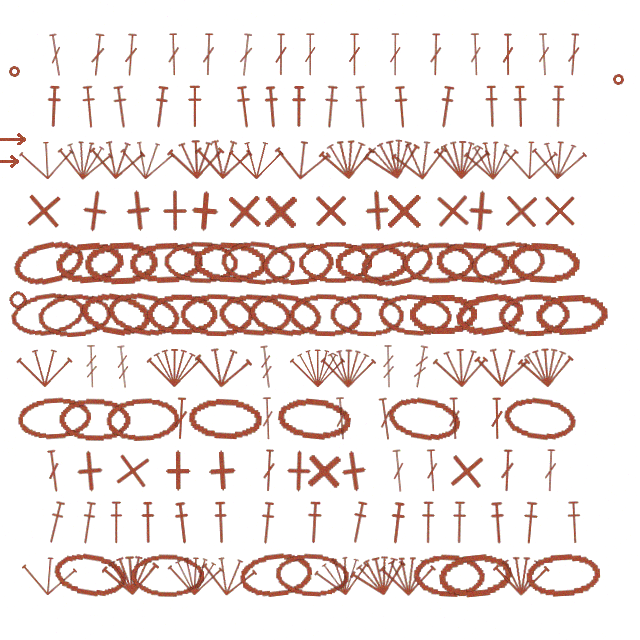chain: (356, 234, 438, 292), (9, 234, 89, 292), (104, 287, 184, 342), (77, 287, 155, 342), (384, 392, 463, 446), (50, 548, 129, 602), (8, 288, 87, 341), (246, 289, 325, 341), (501, 393, 579, 445), (469, 237, 548, 288), (452, 288, 528, 341), (237, 549, 314, 600), (275, 394, 352, 444), (436, 550, 513, 600), (219, 238, 296, 287), (36, 291, 114, 339), (376, 291, 453, 339), (274, 551, 351, 598), (524, 551, 601, 598), (260, 239, 335, 287), (217, 291, 292, 339), (434, 239, 510, 286), (16, 395, 92, 442), (53, 239, 127, 287), (105, 396, 181, 442), (128, 240, 203, 286), (187, 396, 262, 442), (179, 292, 255, 337), (506, 240, 580, 286), (534, 292, 608, 338), (83, 240, 158, 285), (163, 240, 238, 285), (192, 240, 267, 285), (329, 292, 404, 337), (412, 552, 485, 598), (288, 292, 362, 337), (497, 292, 570, 337), (334, 241, 408, 285), (402, 241, 476, 285), (58, 397, 132, 441), (130, 553, 204, 597), (298, 241, 372, 284), (146, 293, 219, 336), (408, 293, 479, 336)
double: (46, 33, 66, 77), (88, 33, 107, 77), (376, 397, 395, 441), (44, 449, 63, 493), (122, 33, 140, 77), (237, 33, 255, 77), (390, 449, 407, 493), (565, 33, 582, 76), (333, 397, 350, 440), (536, 33, 552, 76), (173, 397, 189, 440), (261, 449, 277, 492), (424, 449, 440, 492), (499, 449, 515, 492), (166, 33, 181, 76), (201, 33, 216, 76), (347, 33, 362, 76), (428, 33, 443, 76), (468, 33, 483, 76), (260, 397, 275, 440), (447, 397, 462, 440), (543, 449, 558, 492), (274, 33, 288, 76), (303, 33, 317, 76), (388, 33, 402, 76), (501, 33, 515, 76), (490, 397, 504, 440)
fan: (347, 548, 412, 602), (361, 132, 425, 185), (311, 549, 374, 600), (389, 134, 451, 184), (198, 550, 260, 600), (54, 135, 115, 183), (272, 135, 333, 183), (193, 343, 253, 391), (87, 135, 147, 182), (117, 135, 177, 182), (317, 135, 377, 182), (529, 135, 589, 182), (516, 343, 576, 390), (19, 551, 79, 598), (101, 551, 161, 598), (462, 136, 521, 182), (17, 136, 76, 181), (194, 136, 253, 181), (501, 136, 560, 181), (167, 136, 225, 181), (433, 136, 491, 181), (432, 344, 490, 389), (473, 344, 531, 389), (166, 552, 224, 597), (379, 553, 437, 597), (320, 345, 377, 389), (493, 553, 550, 597), (228, 137, 285, 180), (16, 345, 73, 388), (146, 345, 203, 388), (289, 345, 346, 388)
half_double: (43, 500, 68, 545), (347, 500, 370, 545), (110, 85, 132, 129), (233, 85, 255, 129), (435, 85, 457, 129), (77, 501, 99, 545), (150, 85, 171, 129), (79, 85, 99, 129), (321, 85, 341, 129), (172, 501, 192, 545), (257, 501, 277, 545), (387, 501, 407, 545), (520, 501, 540, 545), (262, 85, 281, 129), (352, 85, 371, 129), (392, 85, 411, 129), (488, 501, 507, 545), (305, 501, 324, 544), (45, 85, 63, 128), (511, 85, 529, 128), (565, 501, 583, 544), (186, 85, 203, 128), (290, 85, 307, 128), (483, 85, 500, 128), (212, 501, 229, 544), (451, 501, 468, 544), (550, 85, 566, 128), (108, 501, 124, 544), (140, 501, 156, 544), (420, 501, 436, 544)
noise: (7, 289, 29, 311), (0, 133, 28, 145), (0, 154, 21, 169), (7, 64, 21, 78), (612, 73, 624, 85)
single: (108, 446, 157, 495), (71, 187, 119, 235), (330, 447, 378, 495), (115, 187, 162, 234), (182, 188, 228, 234), (458, 188, 504, 234), (67, 448, 113, 494), (444, 448, 489, 494), (21, 188, 66, 233), (355, 188, 400, 233), (430, 188, 475, 233), (199, 448, 244, 493), (301, 448, 346, 493), (222, 189, 266, 233), (258, 189, 302, 233), (499, 189, 543, 233), (277, 449, 321, 493), (153, 189, 196, 232), (309, 189, 352, 232), (382, 189, 425, 232), (538, 189, 581, 232), (156, 449, 199, 492)
treble: (410, 345, 431, 389), (257, 345, 276, 389), (114, 345, 132, 389), (84, 345, 99, 388), (381, 345, 396, 388)
